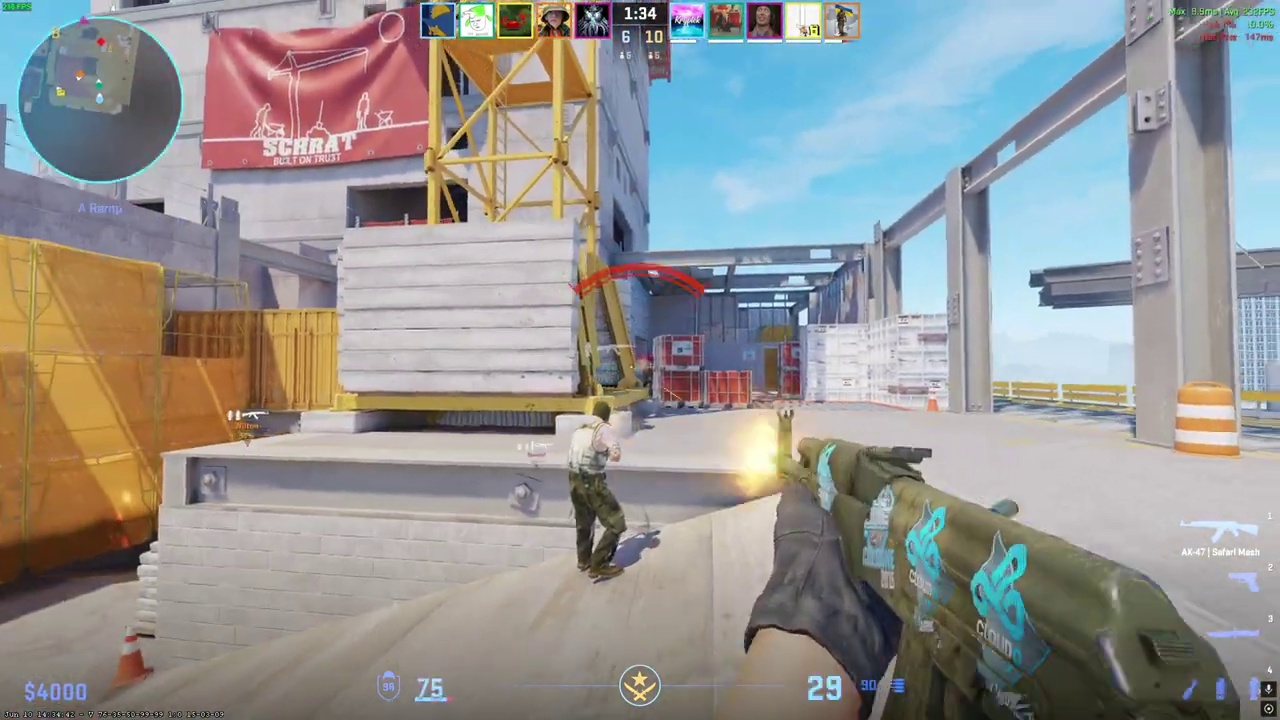Terrorist: (563, 402, 633, 581)
